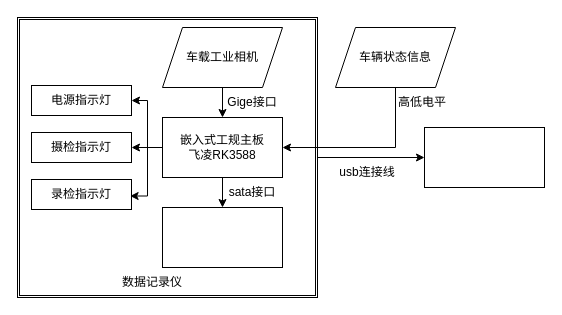
Some shapes in this 562 by 315 pixel diagram are drawn without their labels. The shapes that lost their labels are listed below. From the top down, each one's centre as x and y in pixels, then its label:
At (484,157): "电脑".
At (222,237): "固态硬盘".
